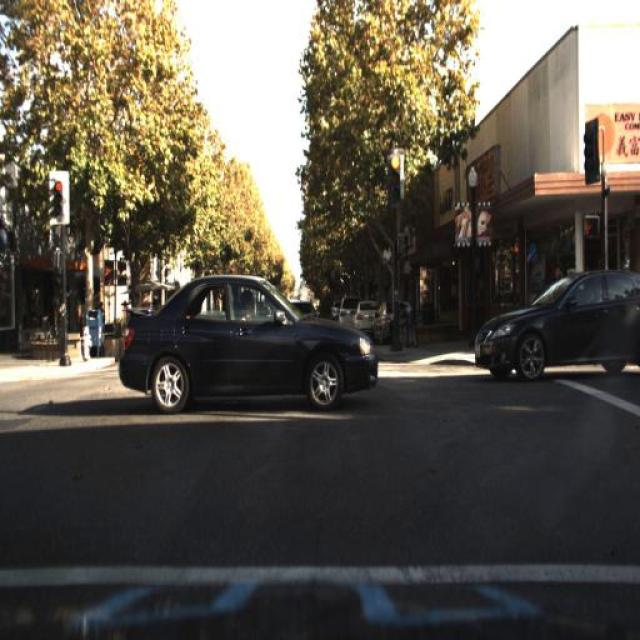car: (105, 273, 376, 417), (472, 254, 638, 388), (470, 270, 640, 376)
trafficLight-RedLeft: (46, 169, 68, 222), (49, 170, 67, 220), (386, 148, 402, 203)
